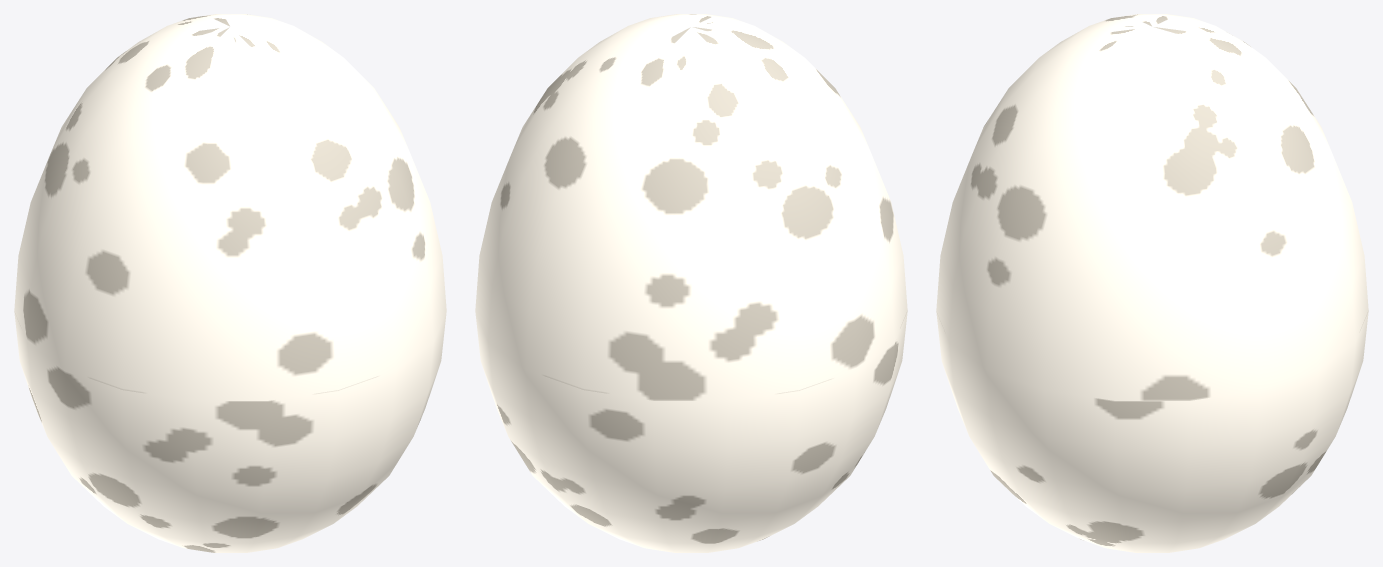
File: egg_common.glb
3 renders of one model, left to right at view 1: azimuth 30°, elevation 25°; view 2: azimuth 150°, elevation 25°; view 3: azimuth 270°, elevation 25°, orthographic.
Visible parts, largest first — view 1: top, bottom; view 2: top, bottom; view 3: top, bottom.
Boxes of the visible parts, <box> form: top: <box>14,14,446,400</box>; bottom: <box>14,311,446,552</box>; top: <box>475,14,907,400</box>; bottom: <box>475,311,907,552</box>; top: <box>936,14,1368,400</box>; bottom: <box>936,311,1368,552</box>.
Bounding box in the file's own units: 0.3939 × 0.52 × 0.4.
Materials: 1 (1 with a texture image).
